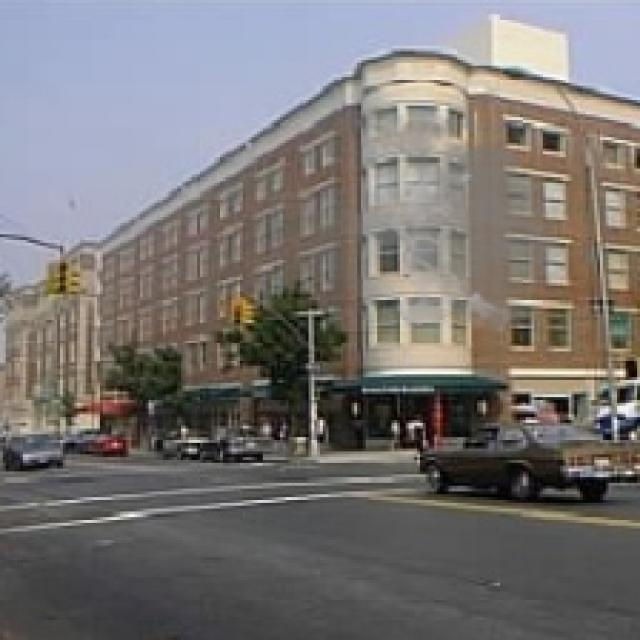Smoke: (320, 100, 577, 334)
